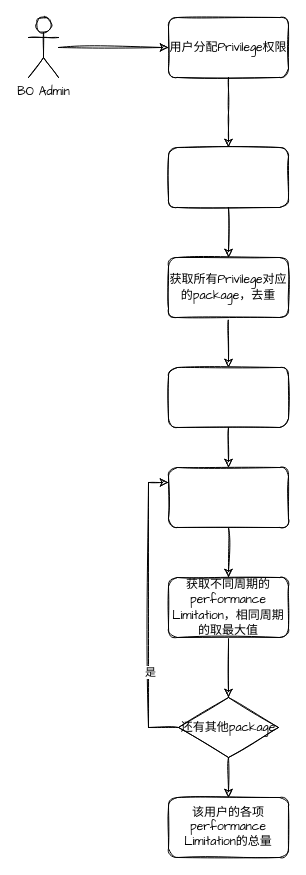
The diagram is 306 pixels wide and 875 high, and some of its shapes have lost their labels. Here are the shapes that lost their labels. From the top down, the centre of each, then its label:
the point at 228,177: 获取用户所有有效的（不包括即将生效的）Privilege 权限
the point at 228,397: 循环package
the point at 228,497: 计算该package下的所有的performance Limitation
